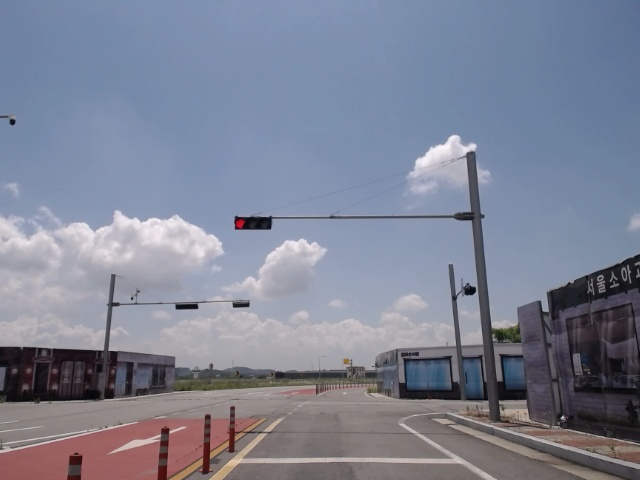red_3: (233, 216, 273, 231)
